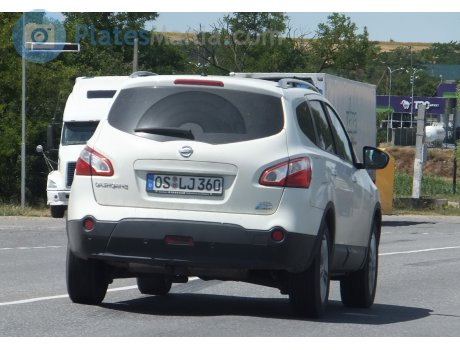License Plates: (155, 175, 227, 194)
